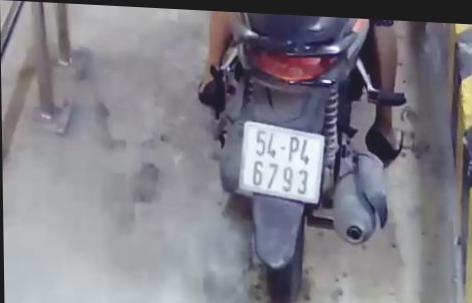License_Plate: (231, 115, 327, 209)
